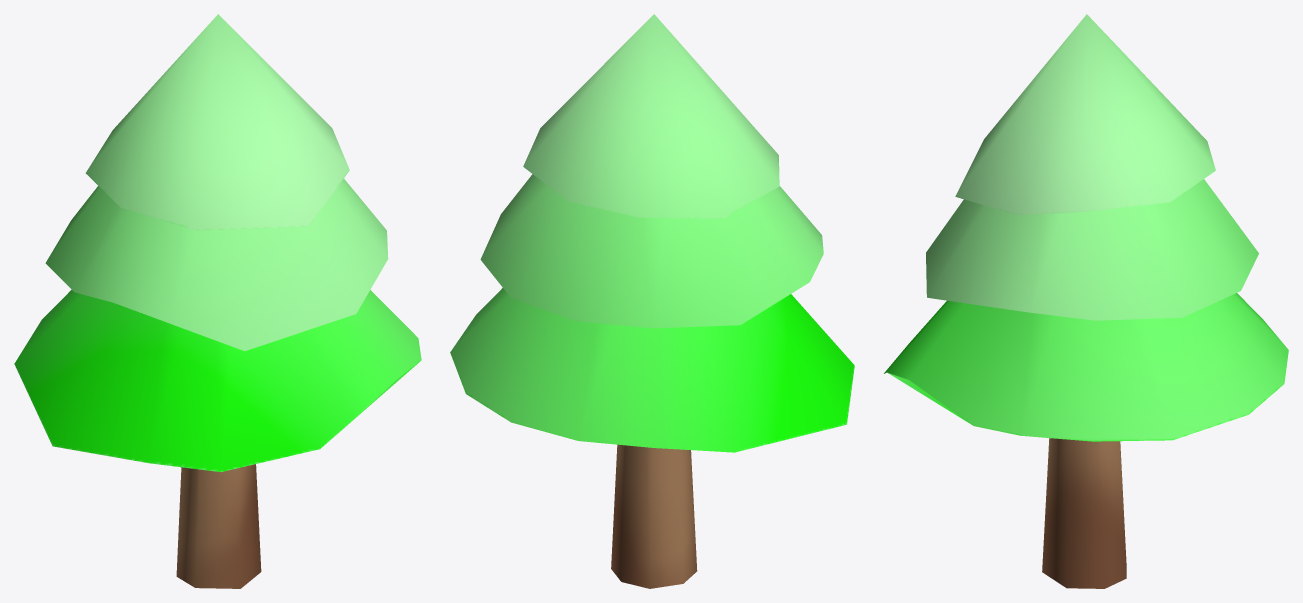
The model's file is tree_001.glb.
The picture shows the model from 3 angles, left to right: view 1: azimuth 30°, elevation 25°; view 2: azimuth 150°, elevation 25°; view 3: azimuth 270°, elevation 25°; orthographic projection.
Visible parts, largest first — view 1: tree.001; view 2: tree.001; view 3: tree.001.
Boxes of the visible parts, bbox=[...] form: tree.001: bbox=[14, 14, 421, 588]; tree.001: bbox=[450, 14, 854, 588]; tree.001: bbox=[884, 14, 1288, 588].
Bounding box in the file's own units: 1.94 × 2.91 × 1.92.
Materials: 1 (1 with a texture image).
